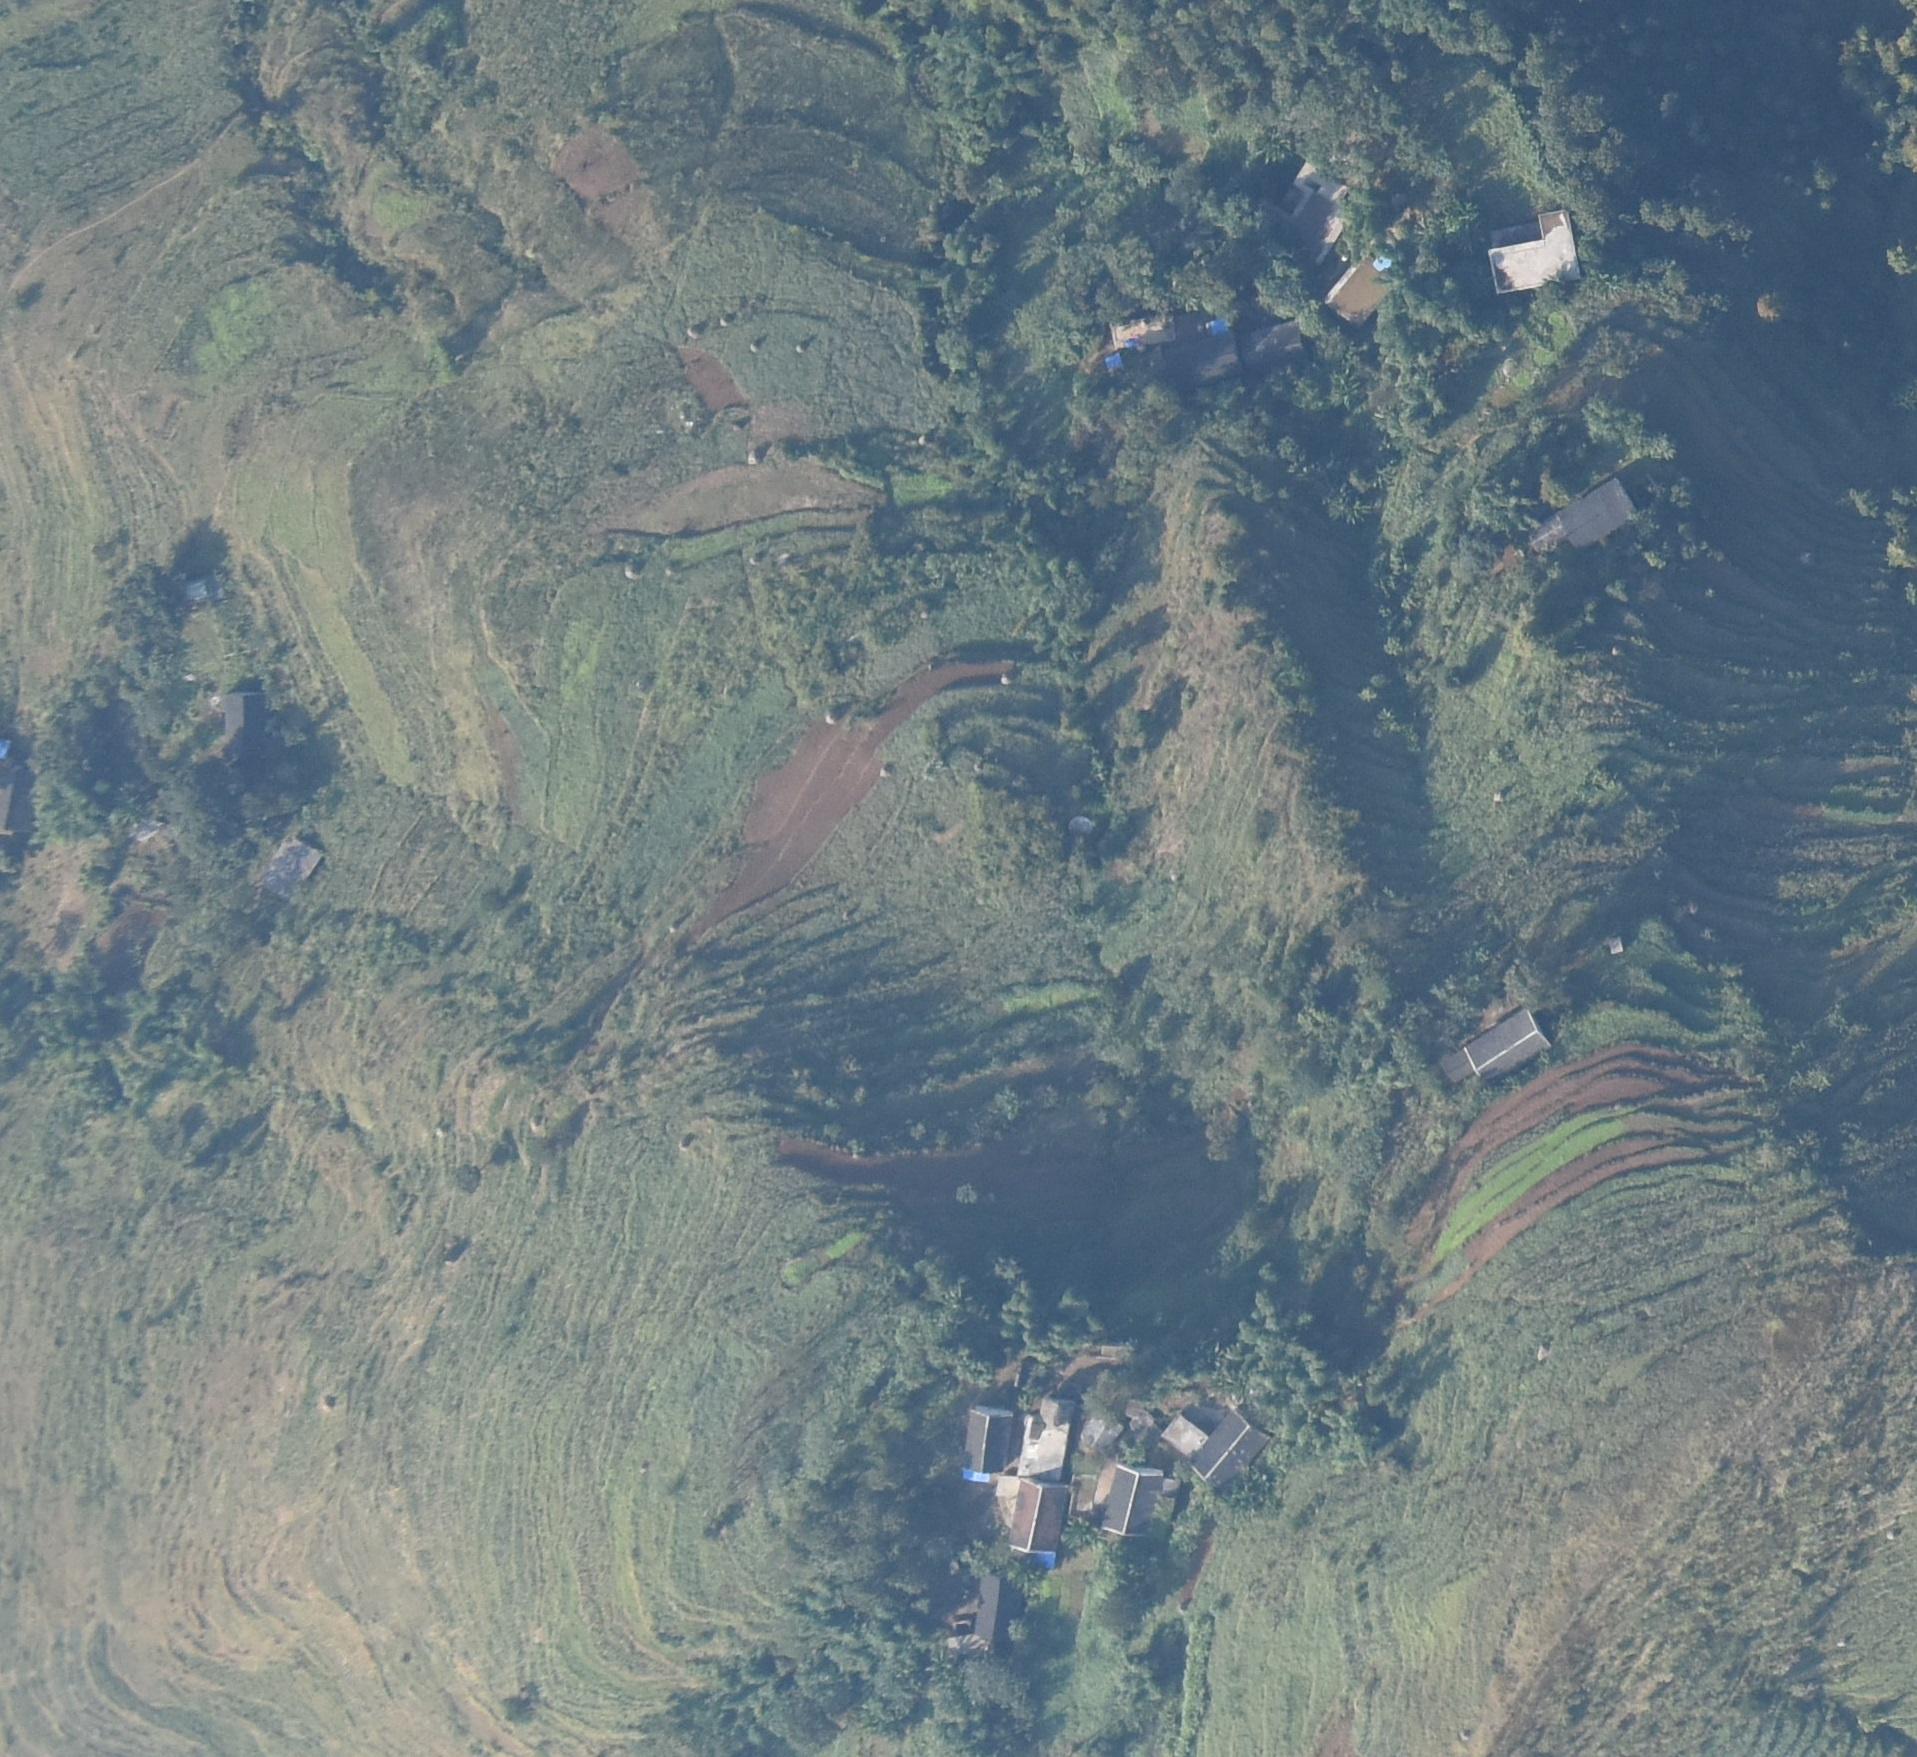building: (1528, 475, 1636, 552), (1488, 207, 1581, 293), (1439, 1012, 1548, 1082), (1283, 161, 1352, 263), (1192, 1409, 1266, 1488), (1325, 251, 1403, 325), (1010, 1482, 1065, 1566), (1097, 1465, 1161, 1536), (1017, 1397, 1072, 1478), (971, 1571, 1021, 1651), (962, 1408, 1012, 1486), (1246, 319, 1309, 371), (224, 692, 263, 759), (269, 837, 326, 882), (1075, 1410, 1129, 1455), (1162, 1414, 1211, 1463), (1187, 336, 1242, 379), (1109, 316, 1180, 346), (183, 575, 225, 602)
prefabricated-house: (1104, 353, 1126, 377), (1207, 317, 1229, 335)
well: (1069, 814, 1097, 842)
